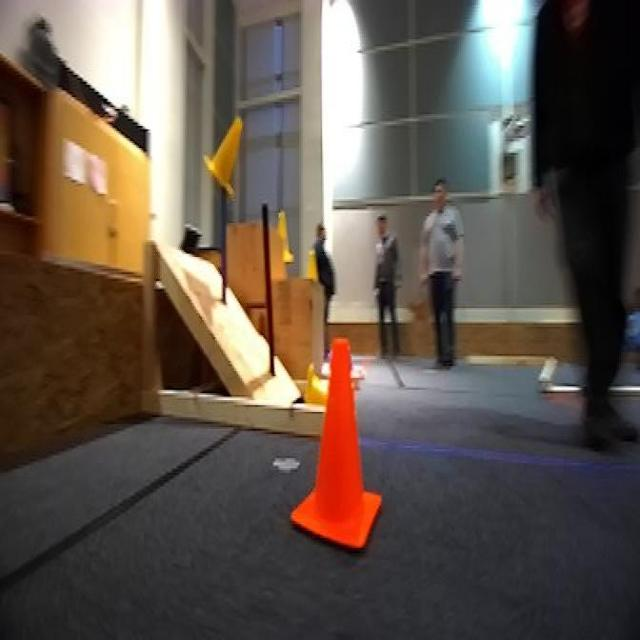frc_cone: (193, 99, 257, 202), (270, 209, 294, 269), (300, 363, 327, 405), (301, 240, 326, 284)
